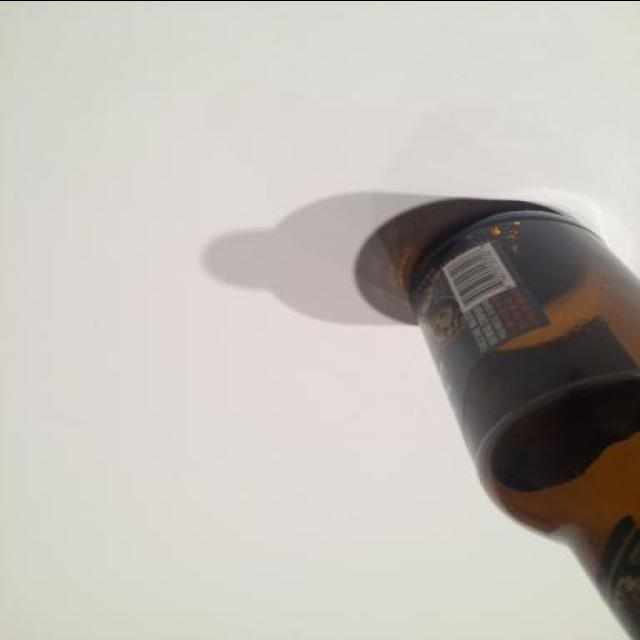litter: (407, 202, 635, 638)
